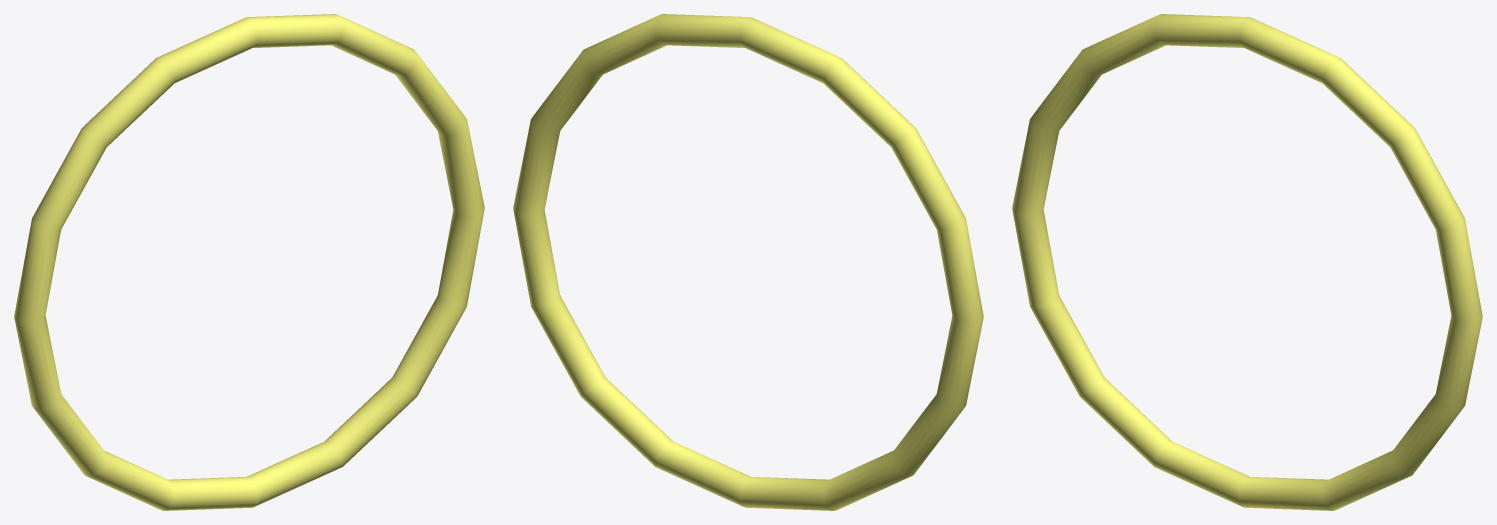
The picture shows the model from 3 angles, left to right: view 1: azimuth 30°, elevation 25°; view 2: azimuth 150°, elevation 25°; view 3: azimuth 330°, elevation 25°; orthographic projection.
Visible parts, largest first — view 1: 85545.dat; view 2: 85545.dat; view 3: 85545.dat.
Boxes of the visible parts, x1,y1,x2,y2 form: 85545.dat: (14,14,484,510); 85545.dat: (513,14,983,510); 85545.dat: (1012,14,1482,510).
Size of the model in its own units: 0.0276 by 0.0276 by 0.00163.
